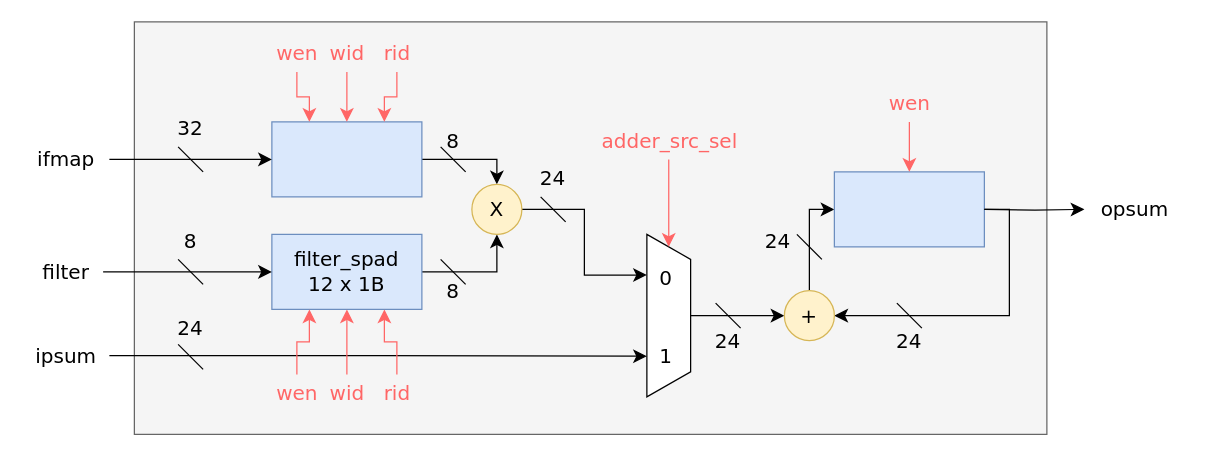
This 1205x456 diagram has some shape labels left out. Here are the shapes that lost their labels. From the top down, the centre of each, then its label:
At pixel 346 159: "ifmap_spad 12 x 1B".
At pixel 908 209: "psum_spad 1 x 3B".
